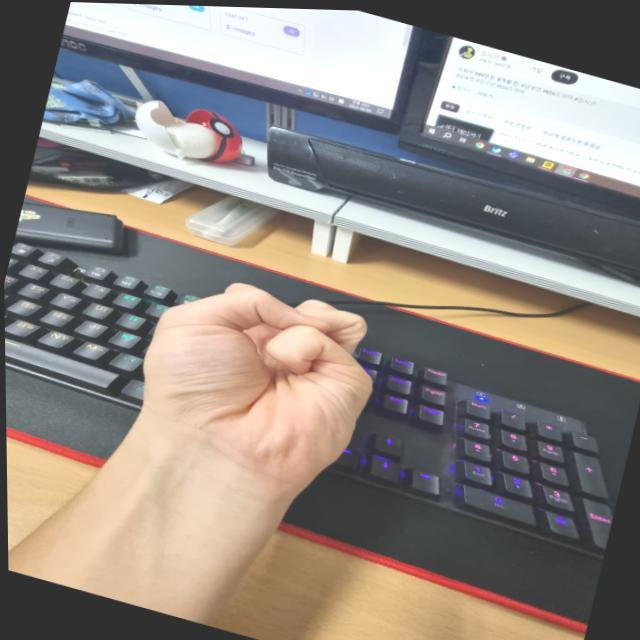keyboard-with-hands: (1, 235, 616, 559)
